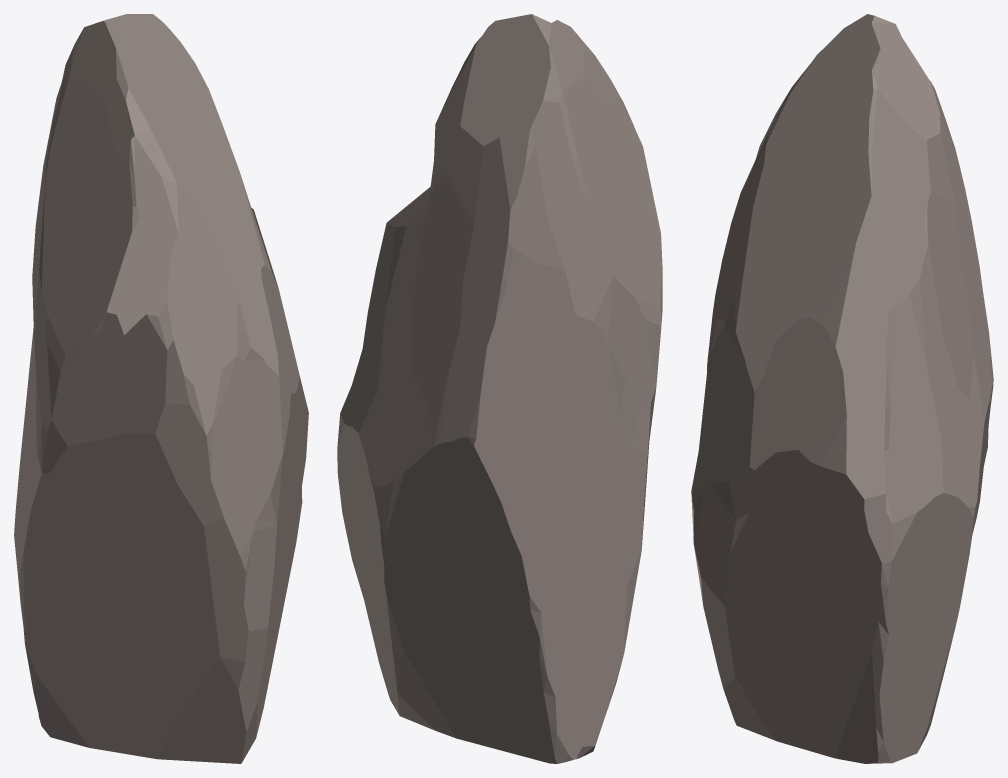
Rendered from Rochas1.fbx.
3 views of the same model, side by side, from view 1: azimuth 30°, elevation 25°; view 2: azimuth 150°, elevation 25°; view 3: azimuth 270°, elevation 25° (orthographic). The views are drawn at different scales.
Visible parts, largest first — view 1: Cube.006; view 2: Cube.006; view 3: Cube.006.
Part boxes in pixels (x1,y1,x2,y2): Cube.006: [14, 14, 308, 763]; Cube.006: [337, 14, 662, 763]; Cube.006: [691, 14, 993, 763].
Size of the model in its own units: 109 by 255 by 102.
